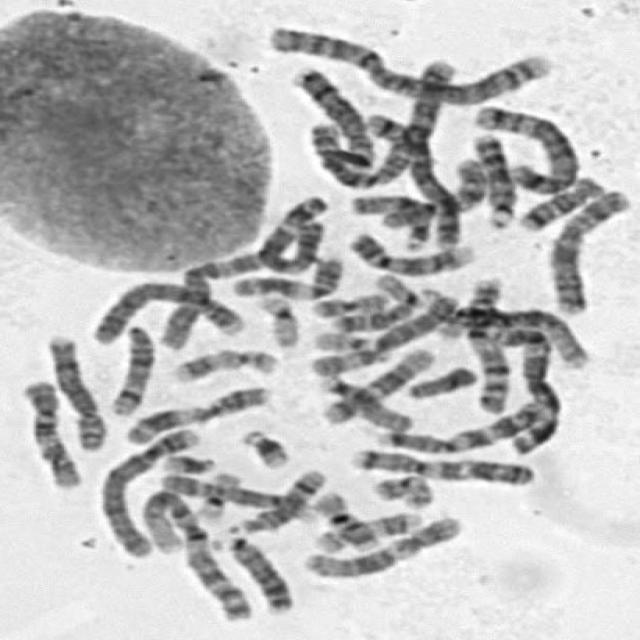A1: (133, 481, 255, 623), (475, 299, 593, 409)
A2: (259, 19, 557, 108), (302, 54, 458, 190)
A3: (486, 319, 566, 456), (250, 191, 331, 277)
B4: (92, 420, 203, 559), (86, 275, 251, 347)
B5: (358, 108, 465, 250), (465, 98, 584, 197)
C10: (373, 154, 492, 232), (12, 373, 84, 491)
C11: (117, 380, 275, 446), (225, 248, 348, 301)
C12: (299, 508, 466, 580), (315, 341, 437, 427)
C6: (303, 288, 462, 377), (153, 245, 264, 352)
C7: (370, 397, 551, 455), (342, 443, 540, 487)
C8: (282, 62, 381, 171), (37, 328, 110, 453)
C9: (154, 470, 317, 524), (342, 227, 479, 277)
D13: (203, 528, 295, 616), (465, 129, 518, 230)
D14: (222, 464, 328, 536), (103, 317, 161, 418)
D15: (311, 370, 414, 434), (345, 189, 435, 251)
E16: (308, 487, 384, 552), (442, 274, 502, 344)
E17: (309, 506, 426, 554), (166, 342, 284, 384)
E18: (512, 171, 606, 234), (328, 296, 421, 334)
F19: (250, 288, 303, 349), (190, 468, 242, 524)
F20: (365, 468, 437, 510), (306, 286, 393, 318)
G21: (234, 423, 294, 470), (155, 447, 220, 475)
G22: (368, 268, 429, 309), (304, 325, 380, 354)
X: (540, 184, 634, 316)
Y: (400, 360, 480, 400)
